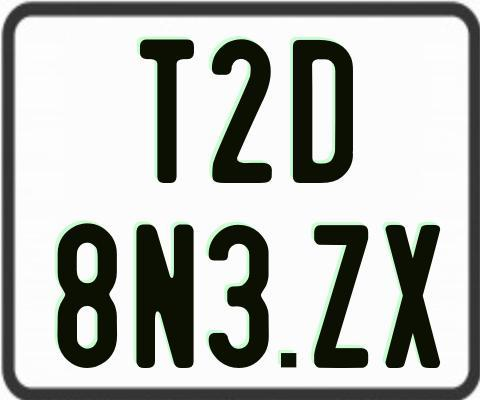2: (212, 38, 274, 187)
3: (207, 223, 273, 370)
8: (56, 221, 121, 368)
D: (292, 39, 354, 186)
N: (135, 222, 197, 367)
T: (139, 39, 199, 184)
X: (382, 224, 439, 368)
Z: (313, 224, 370, 370)
